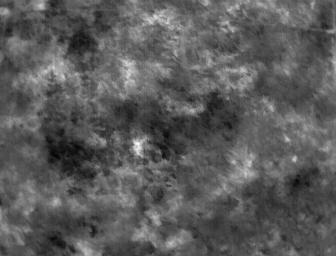landmine: (131, 136, 146, 160)
